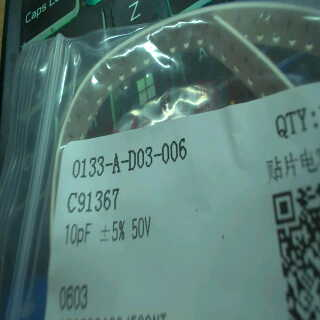10pF: (62, 215, 97, 253)
